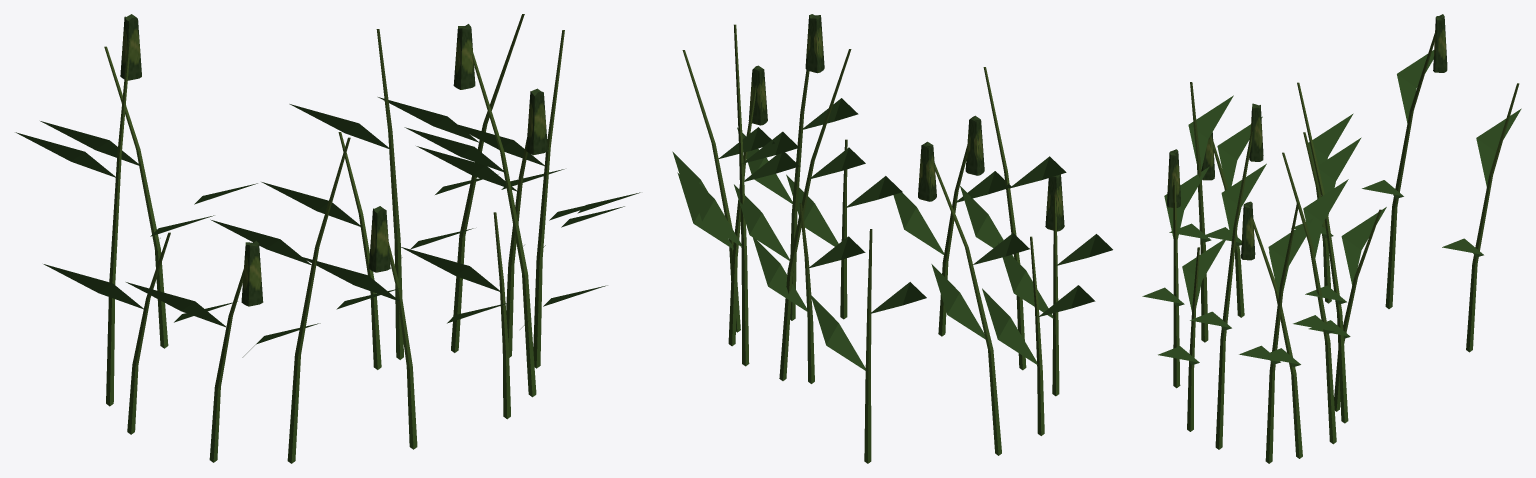
File: shore-reeds-lod0.glb
3 renders of one model, left to right at view 1: azimuth 30°, elevation 25°; view 2: azimuth 150°, elevation 25°; view 3: azimuth 270°, elevation 25°, orthographic. The views are drawn at different scales.
Size of the model in its own units: 0.1914 by 0.1246 by 0.1329.
1 material, 1 textured.
